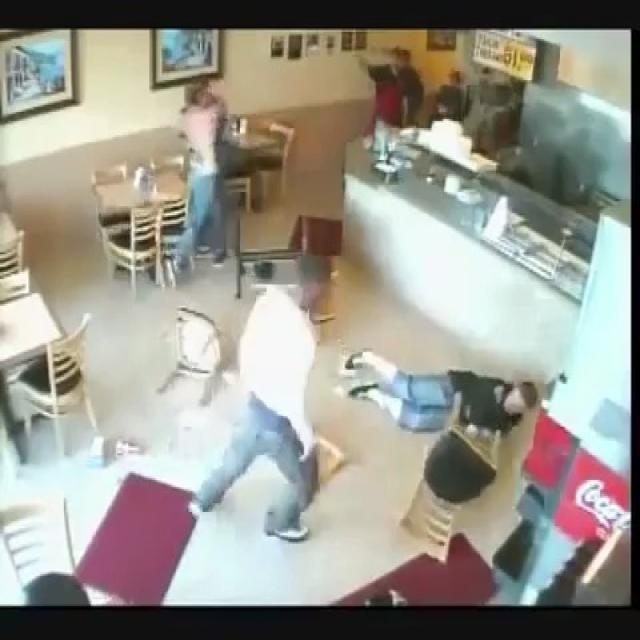fight: (240, 249, 540, 484), (160, 73, 239, 296)
